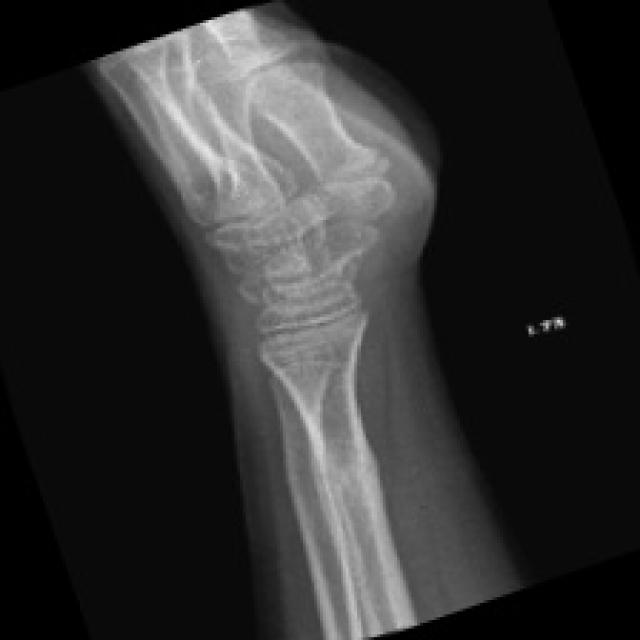fracture: (311, 440, 396, 522)
